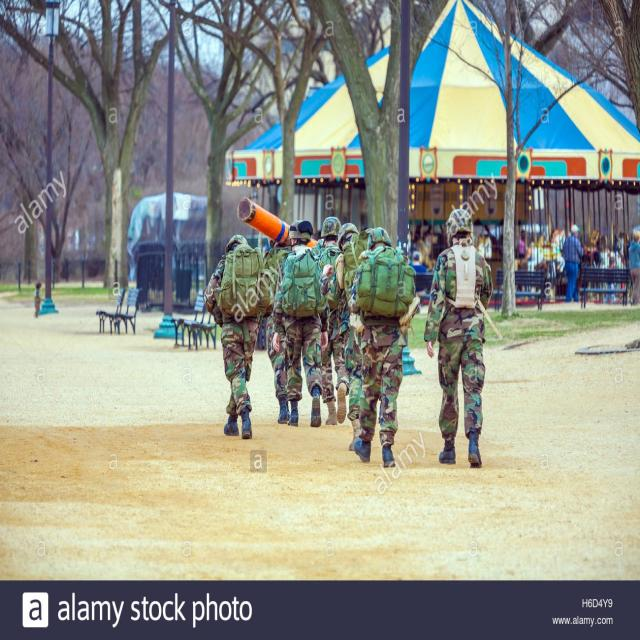body: (421, 207, 496, 471), (351, 224, 422, 469), (202, 232, 274, 443), (318, 222, 371, 452), (272, 218, 330, 428), (314, 216, 350, 427), (262, 235, 292, 425), (526, 221, 564, 276), (562, 224, 585, 303), (475, 216, 505, 256), (588, 230, 625, 260), (627, 228, 640, 308), (602, 255, 618, 308), (415, 222, 445, 250), (408, 252, 425, 300), (32, 280, 46, 318), (518, 229, 525, 259)
